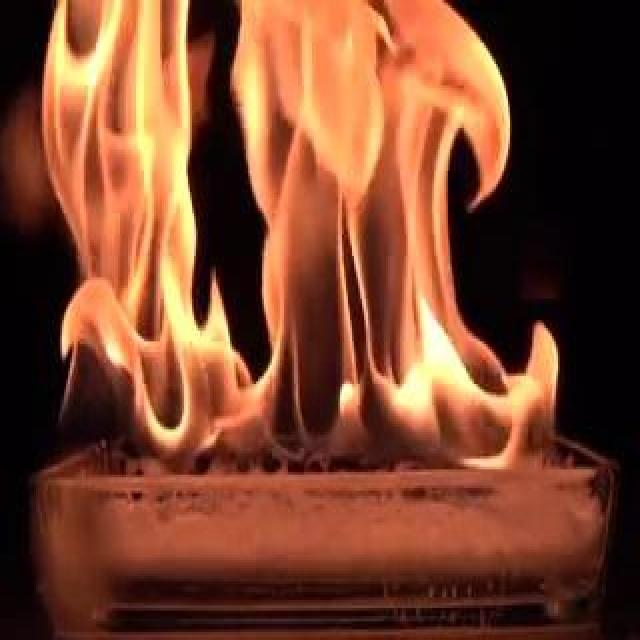Fire: (44, 2, 574, 482)
